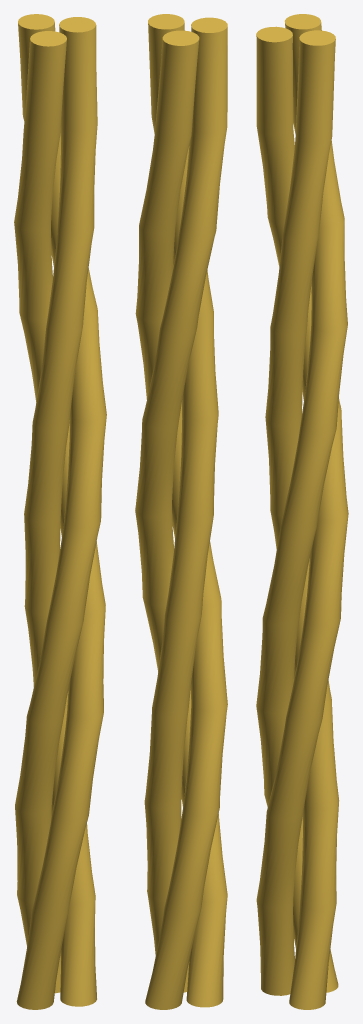
The model's file is Spaghetti Strand Model.fbx.
3 renders of one model, left to right at view 1: azimuth 30°, elevation 25°; view 2: azimuth 150°, elevation 25°; view 3: azimuth 330°, elevation 25°, orthographic.
Parts seen in each view (by area): view 1: Spagetti_Strand; view 2: Spagetti_Strand; view 3: Spagetti_Strand.
Part boxes in pixels (box(x1,y1,x2,y2)): Spagetti_Strand: box(14, 14, 106, 1009); Spagetti_Strand: box(135, 14, 227, 1009); Spagetti_Strand: box(256, 14, 348, 1009).
Bounding box in the file's own units: 2.35 × 27.27 × 2.36.
1 material, 1 textured.
